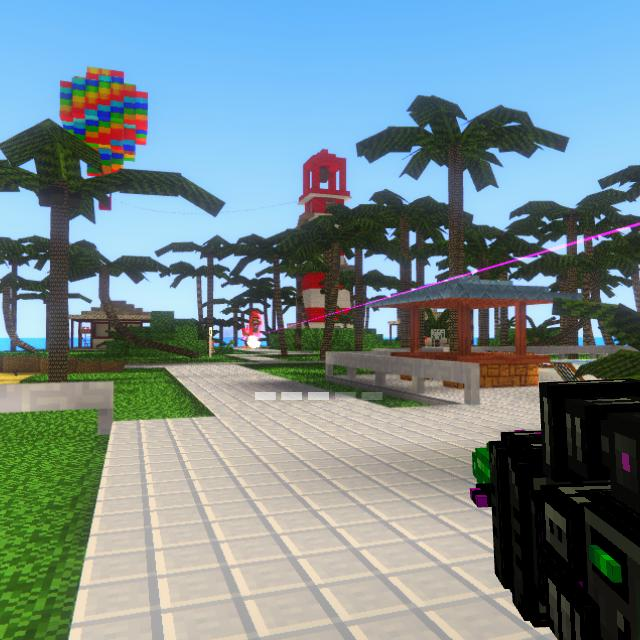Enemy: (250, 315, 262, 333), (244, 333, 249, 348)
